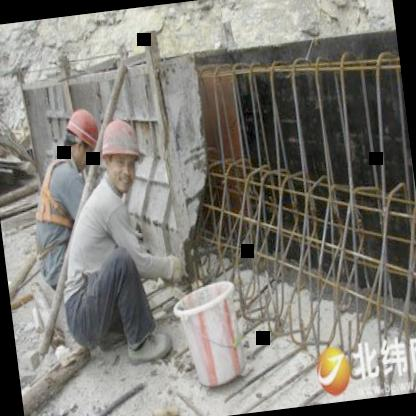helmet: (91, 113, 147, 197), (57, 102, 104, 169)
